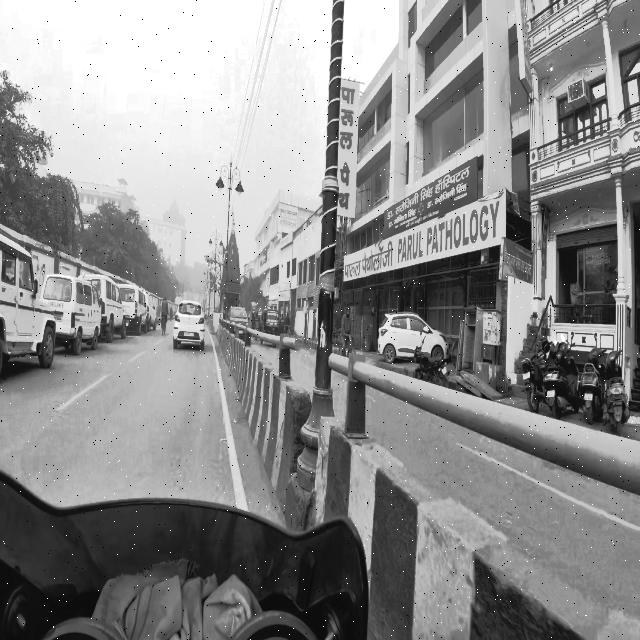Auto-Rickshaw: (262, 307, 281, 348)
Car: (0, 231, 56, 369), (376, 313, 451, 363), (174, 300, 206, 353), (227, 305, 249, 341)
LCV: (43, 272, 101, 352), (86, 276, 128, 342), (117, 284, 149, 335)
